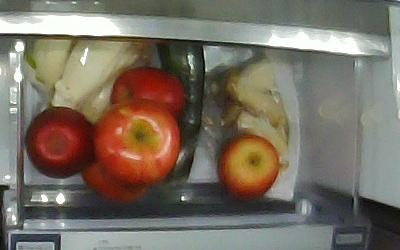apple: (90, 97, 181, 185), (23, 105, 94, 179), (215, 132, 280, 201), (108, 64, 186, 121), (79, 155, 152, 203)
